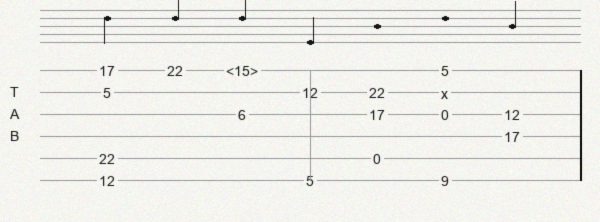0: (373, 151, 385, 165), (441, 107, 453, 121)
12: (99, 173, 119, 187), (302, 85, 322, 99), (504, 107, 524, 121)
17: (99, 63, 119, 77), (369, 107, 389, 121), (504, 129, 524, 143)
22: (99, 151, 119, 165), (167, 63, 187, 77), (369, 85, 389, 99)
5: (103, 85, 115, 99), (306, 173, 318, 187), (441, 63, 453, 77)
6: (238, 107, 250, 121)
9: (441, 173, 453, 187)
harmonic: (226, 63, 262, 77)
x: (441, 86, 452, 98)
